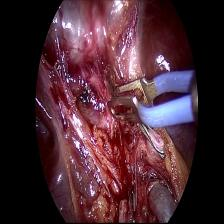Bipolar: (106, 69, 198, 132)
